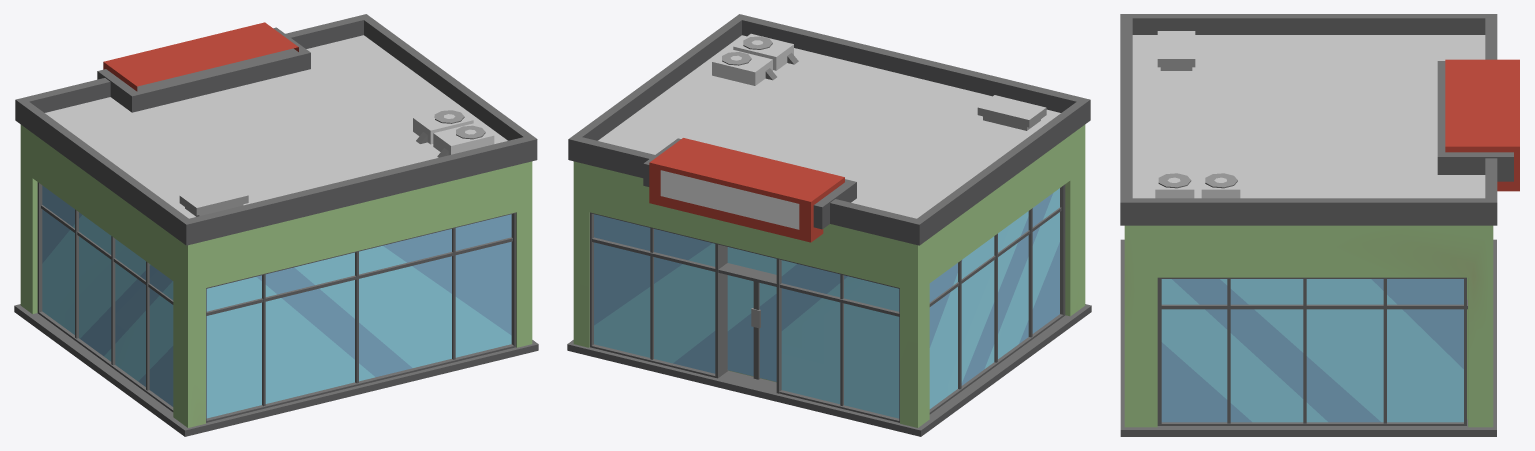
The model's file is building_0_1_1_1.glb.
The picture shows the model from 3 angles, left to right: view 1: azimuth 30°, elevation 25°; view 2: azimuth 150°, elevation 25°; view 3: azimuth 270°, elevation 25°; orthographic projection. The views are drawn at different scales.
Visible parts, largest first — view 1: building_0_1_1_1; view 2: building_0_1_1_1; view 3: building_0_1_1_1.
Part boxes in pixels (x1,y1,x2,y2): building_0_1_1_1: (14, 14, 538, 436); building_0_1_1_1: (567, 14, 1091, 436); building_0_1_1_1: (1120, 14, 1519, 436).
Size of the model in its own units: 13.64 by 8.04 by 12.13.
Materials: 1 (1 with a texture image).
